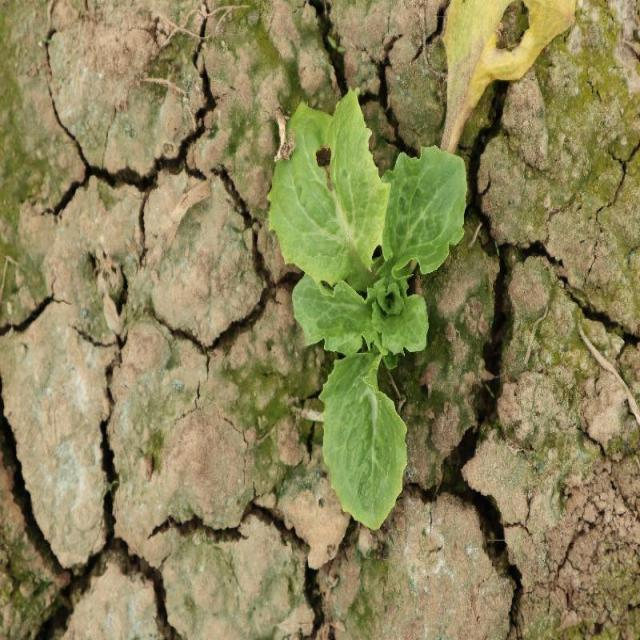crop: (267, 86, 468, 530)
